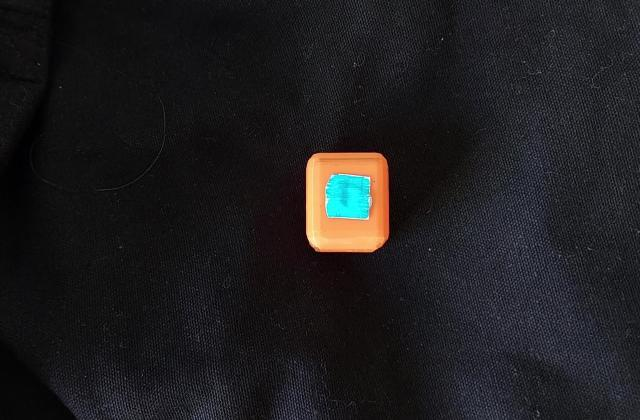blue: (333, 184, 366, 214)
sticker: (302, 150, 392, 256)
